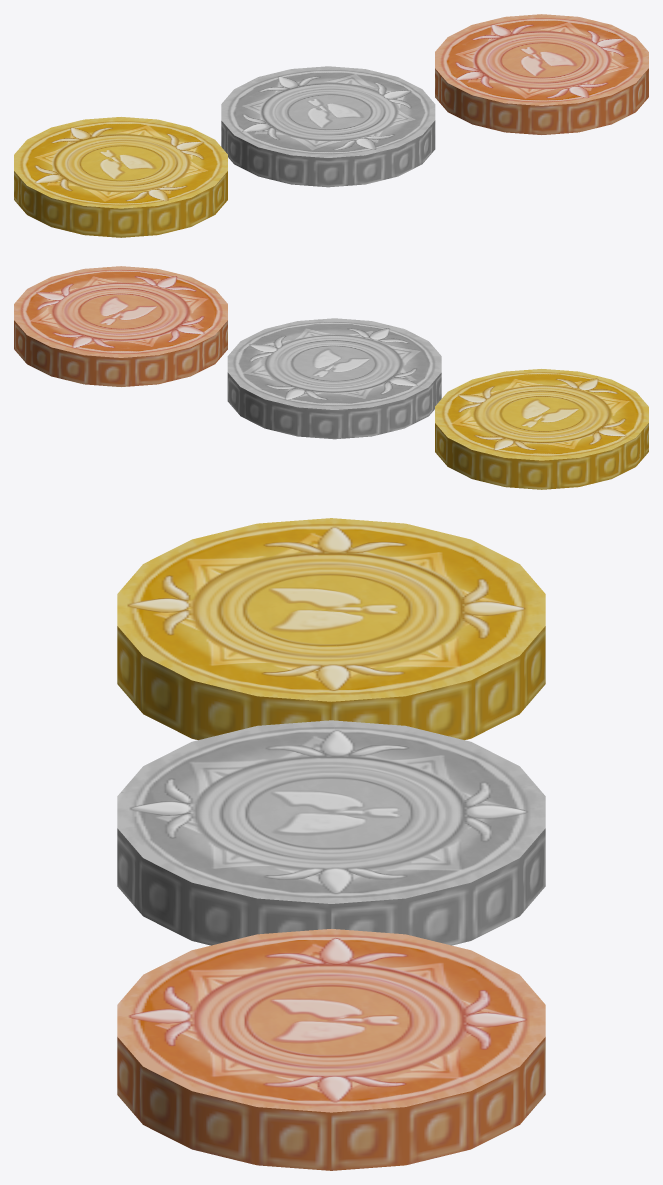
File: coins.FBX
The picture shows the model from 3 angles, top to bottom: view 1: azimuth 30°, elevation 25°; view 2: azimuth 150°, elevation 25°; view 3: azimuth 270°, elevation 25°; orthographic projection. The views are drawn at different scales.
Parts seen in each view (by area): view 1: silver_coin, gold_coin, copper_coin; view 2: silver_coin, gold_coin, copper_coin; view 3: copper_coin, silver_coin, gold_coin.
Boxes of the visible parts, box(x1,y1,x2,y2) form: silver_coin: box(221, 66, 435, 187); gold_coin: box(14, 117, 227, 237); copper_coin: box(435, 14, 648, 134); silver_coin: box(227, 318, 441, 439); gold_coin: box(435, 369, 648, 489); copper_coin: box(14, 266, 227, 386); copper_coin: box(117, 929, 545, 1170); silver_coin: box(117, 720, 545, 945); gold_coin: box(117, 518, 545, 739).
Bounding box in the file's own units: 186 × 8.51 × 56.65.
